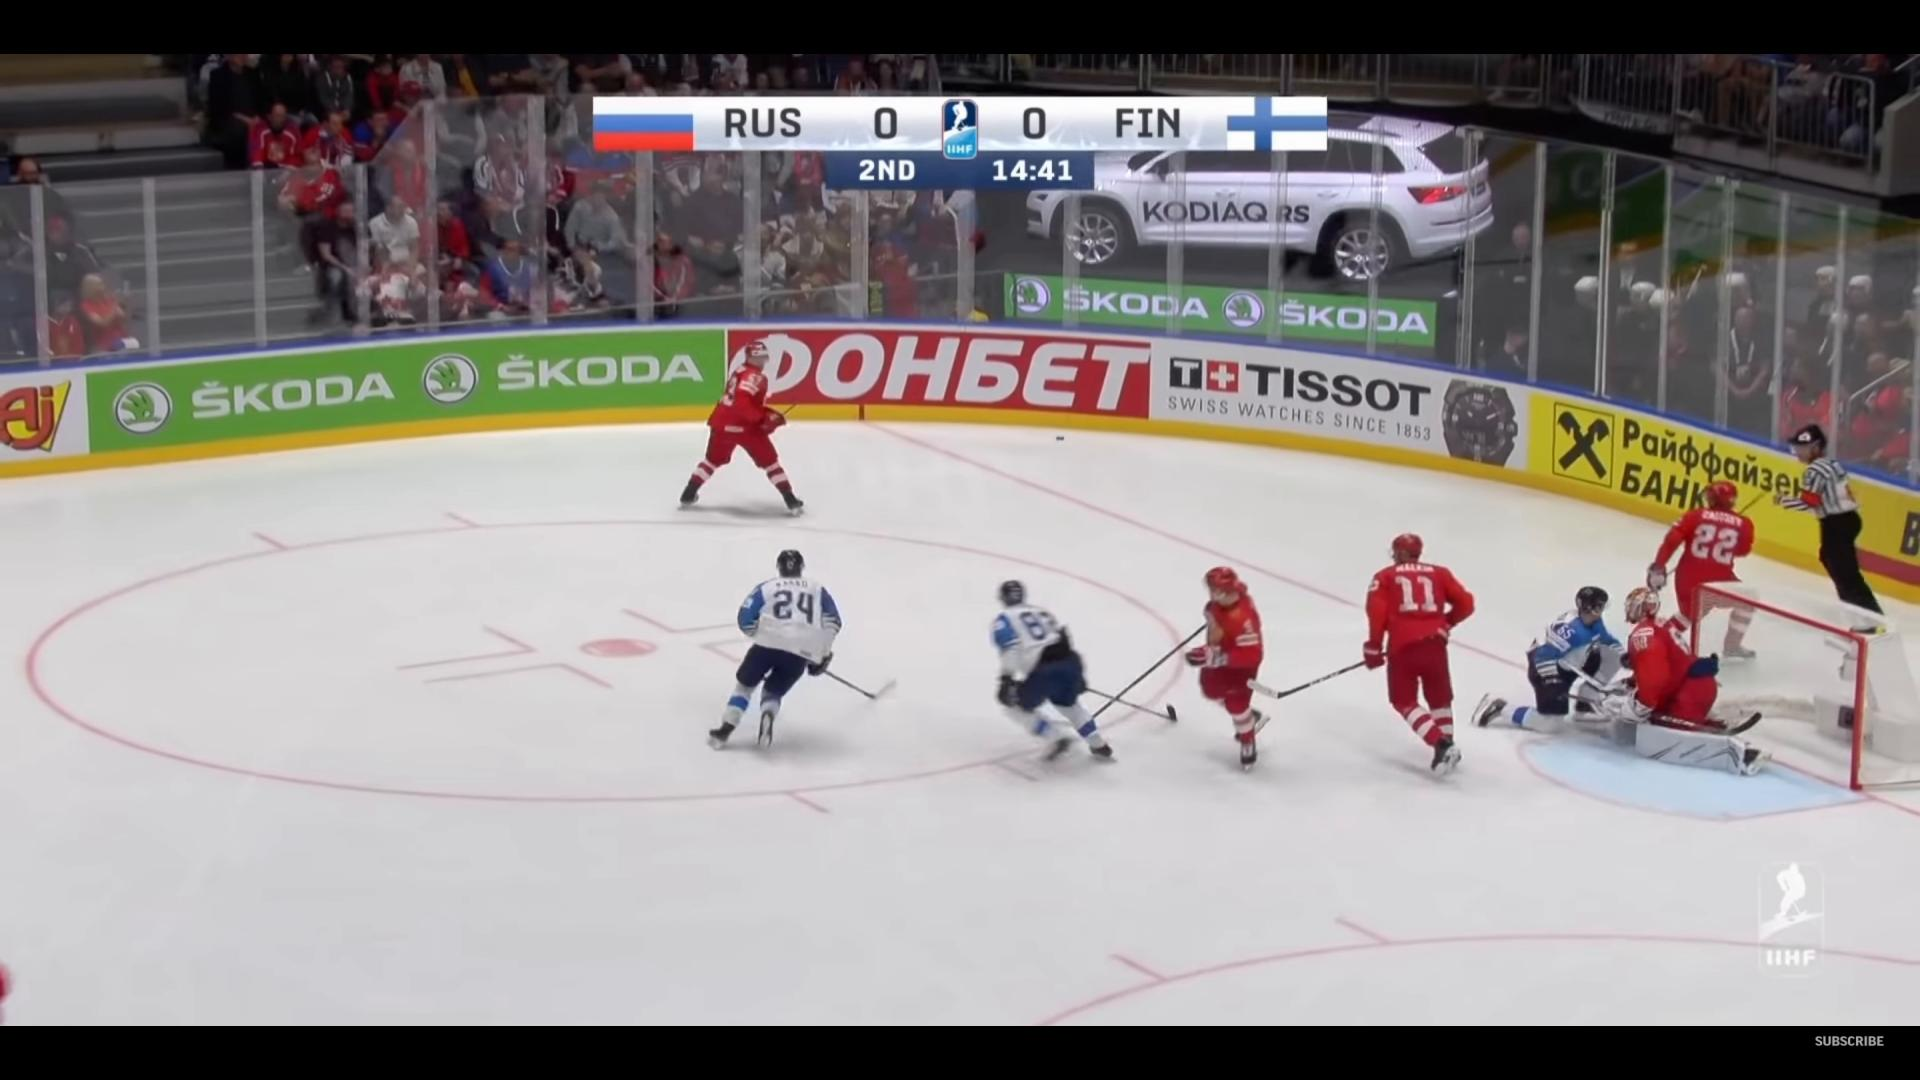puck: (1055, 435, 1064, 440)
